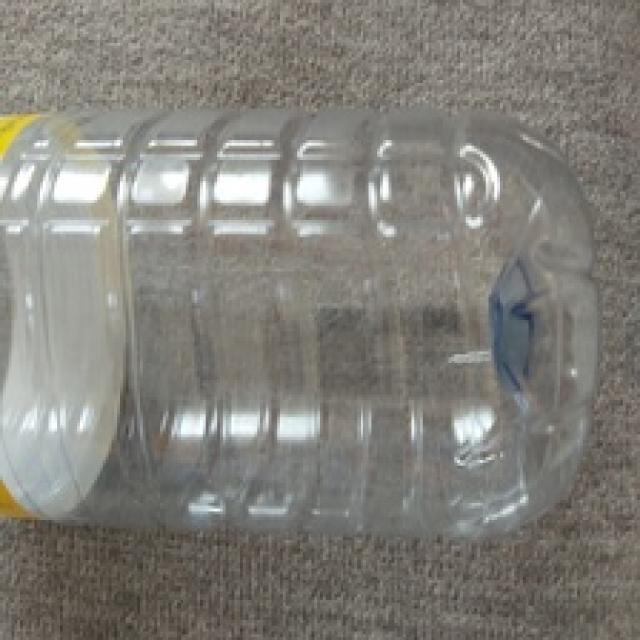Plastic: (0, 105, 601, 537)
